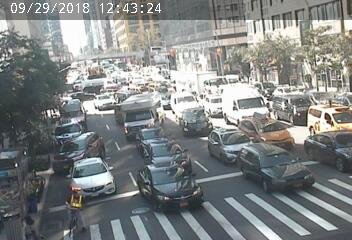car: (244, 144, 295, 188), (139, 166, 192, 203), (223, 85, 270, 122), (167, 63, 215, 95), (74, 163, 117, 198), (307, 133, 352, 164), (124, 95, 158, 134), (146, 142, 192, 169), (127, 91, 164, 124), (312, 102, 352, 129), (270, 90, 309, 117), (244, 118, 285, 143), (58, 136, 98, 160), (178, 109, 214, 132), (214, 129, 243, 157), (172, 89, 202, 110), (52, 113, 78, 131), (142, 125, 166, 142), (62, 100, 84, 115), (204, 91, 222, 109), (95, 93, 111, 108), (151, 82, 166, 92), (124, 74, 141, 81)
